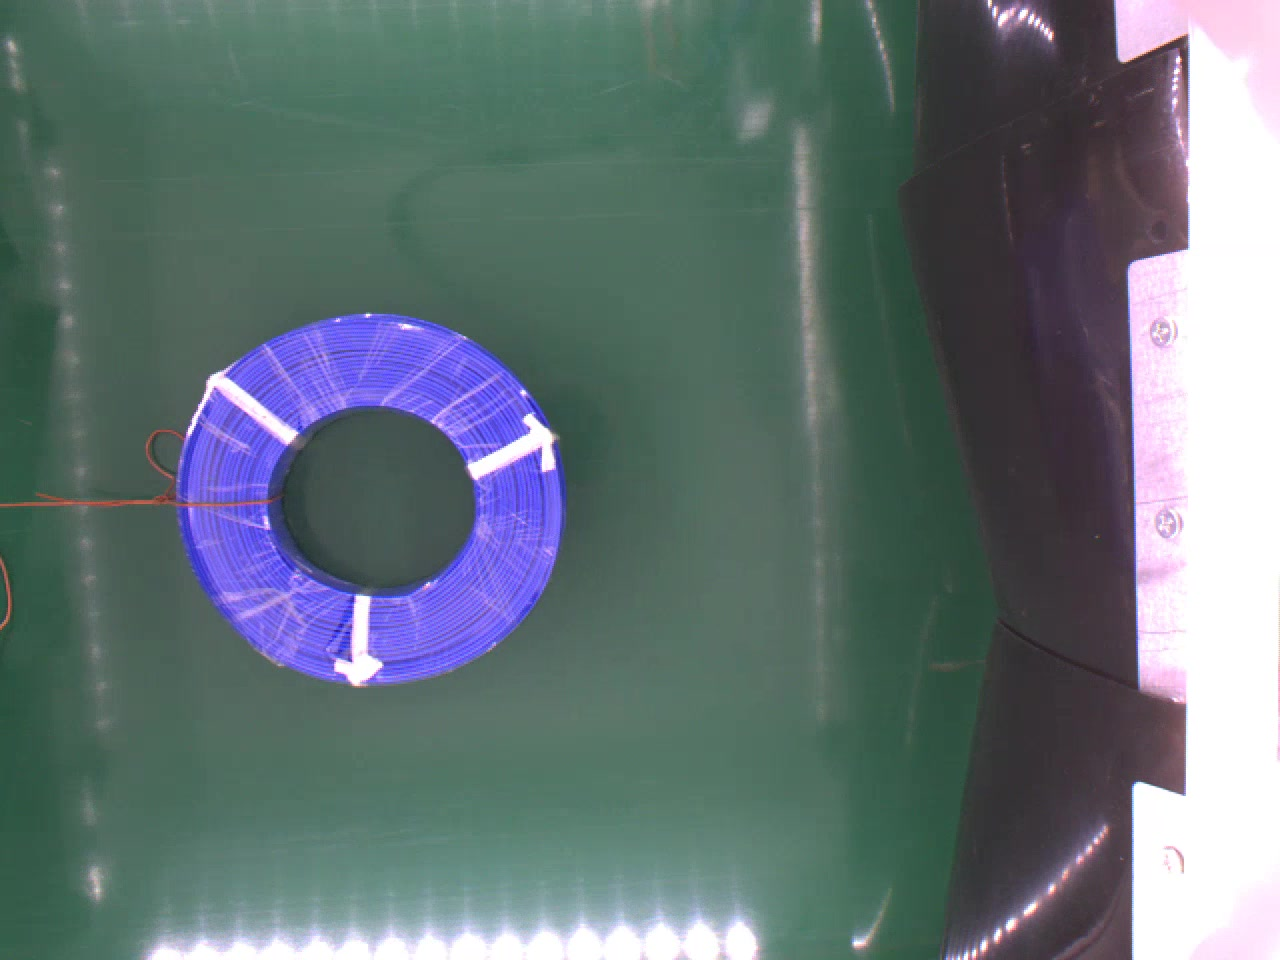blue: (173, 311, 565, 689)
